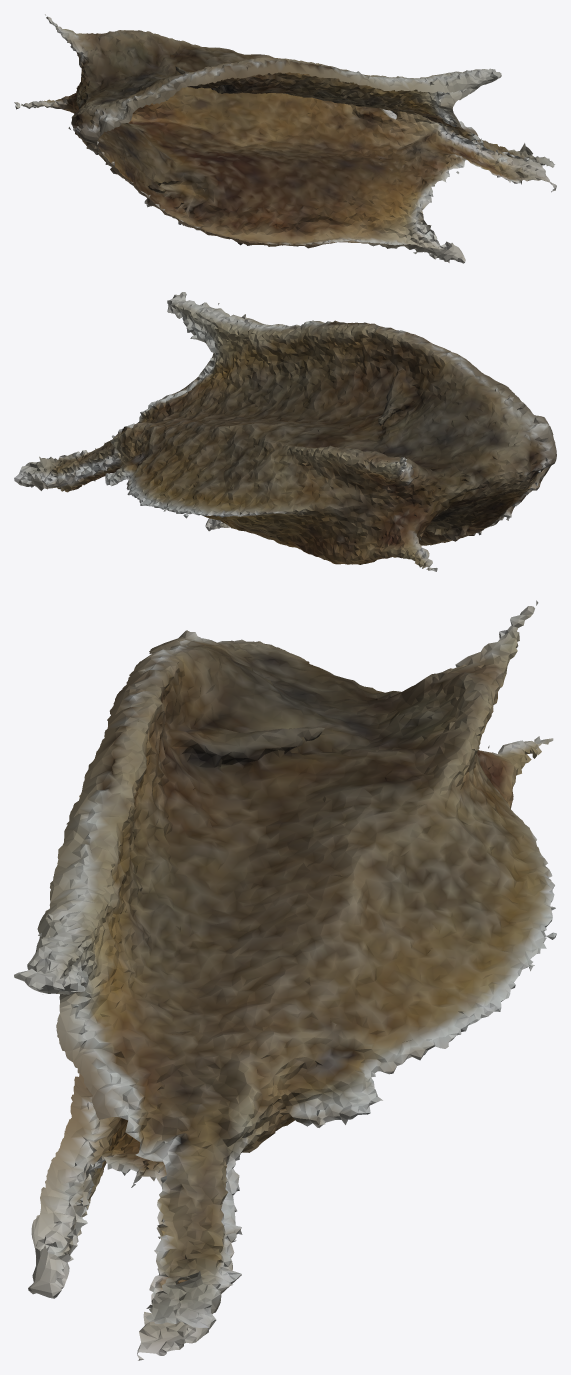
The model's file is fish.obj.
The picture shows the model from 3 angles, top to bottom: view 1: azimuth 30°, elevation 25°; view 2: azimuth 150°, elevation 25°; view 3: azimuth 270°, elevation 25°; orthographic projection. The views are drawn at different scales.
Bounding box in the file's own units: 0.2987 × 0.1421 × 0.1609.
